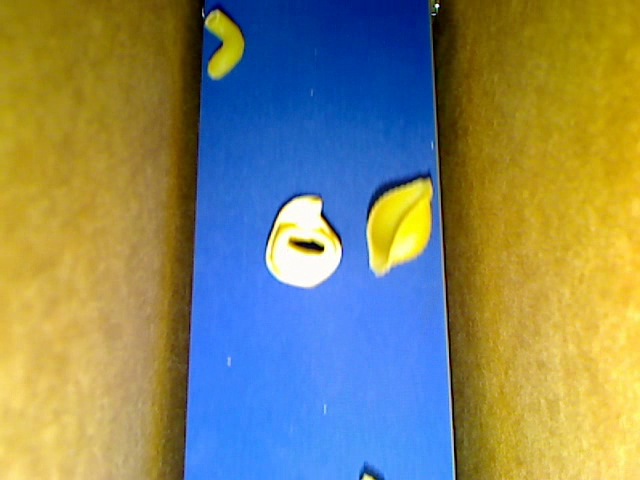elbow: (204, 9, 245, 79)
shell: (366, 176, 433, 276)
tortellini: (264, 193, 341, 288)
